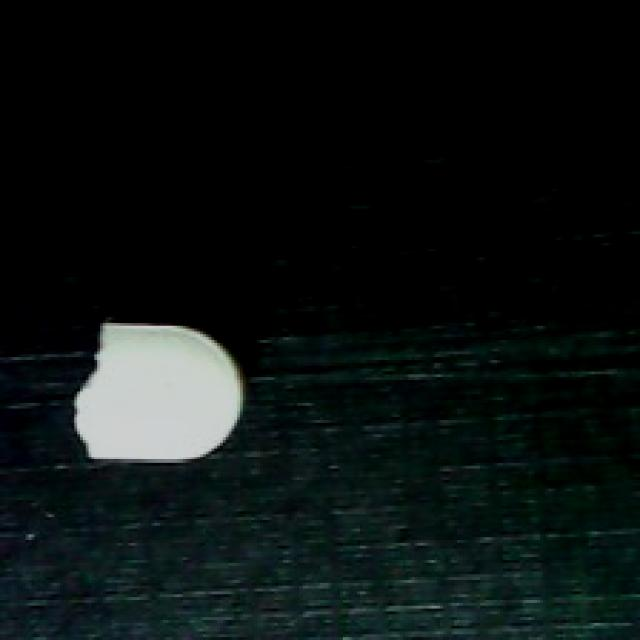defected: (71, 306, 249, 469)
